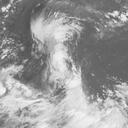cyclone: (31, 28, 81, 93)
